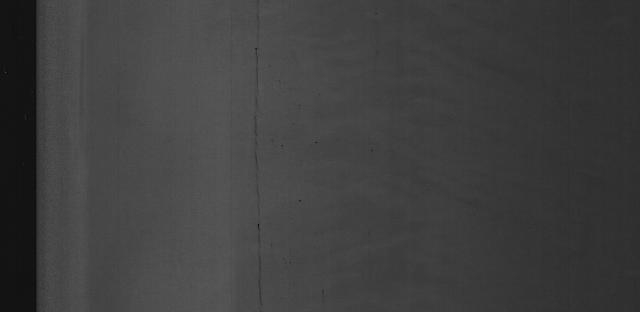inclusion: (246, 7, 271, 304)
